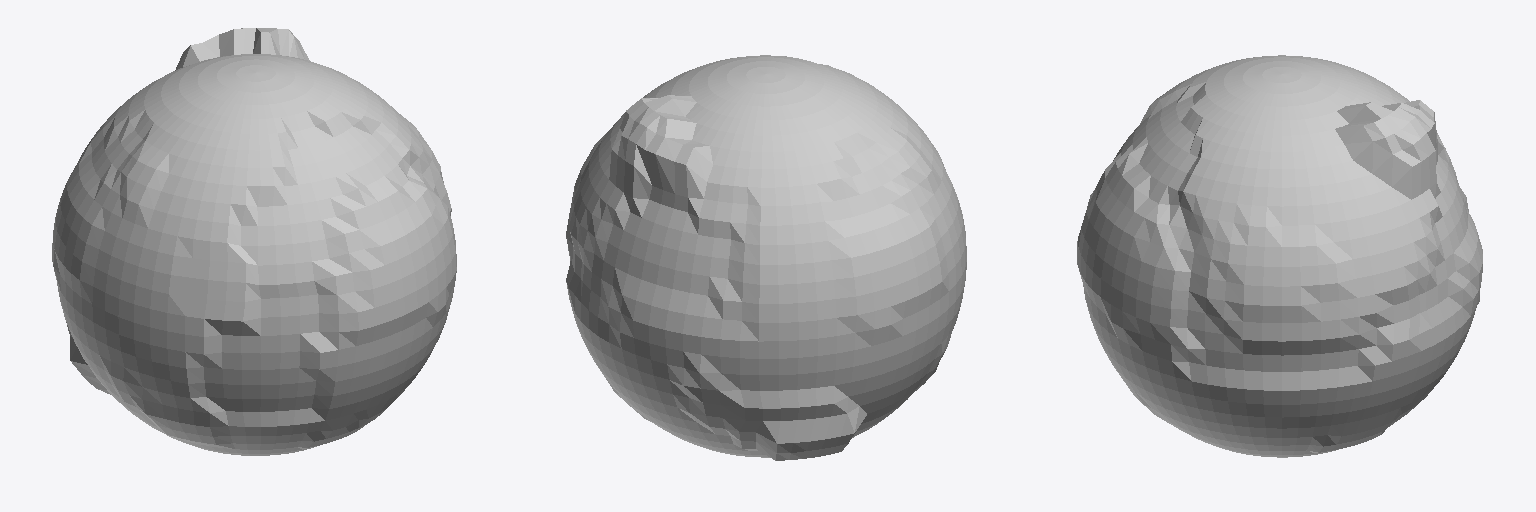
File: Planet1 Temp.obj
The picture shows the model from 3 angles: view 1: azimuth 30°, elevation 25°; view 2: azimuth 150°, elevation 25°; view 3: azimuth 270°, elevation 25°; orthographic projection.
Visible parts, largest first — view 1: Sphere; view 2: Sphere; view 3: Sphere.
Part boxes in pixels (x1,y1,x2,y2): Sphere: (52,28,456,455); Sphere: (566,55,966,460); Sphere: (1077,55,1482,457).
Size of the model in its own units: 2.01 by 2 by 2.02.